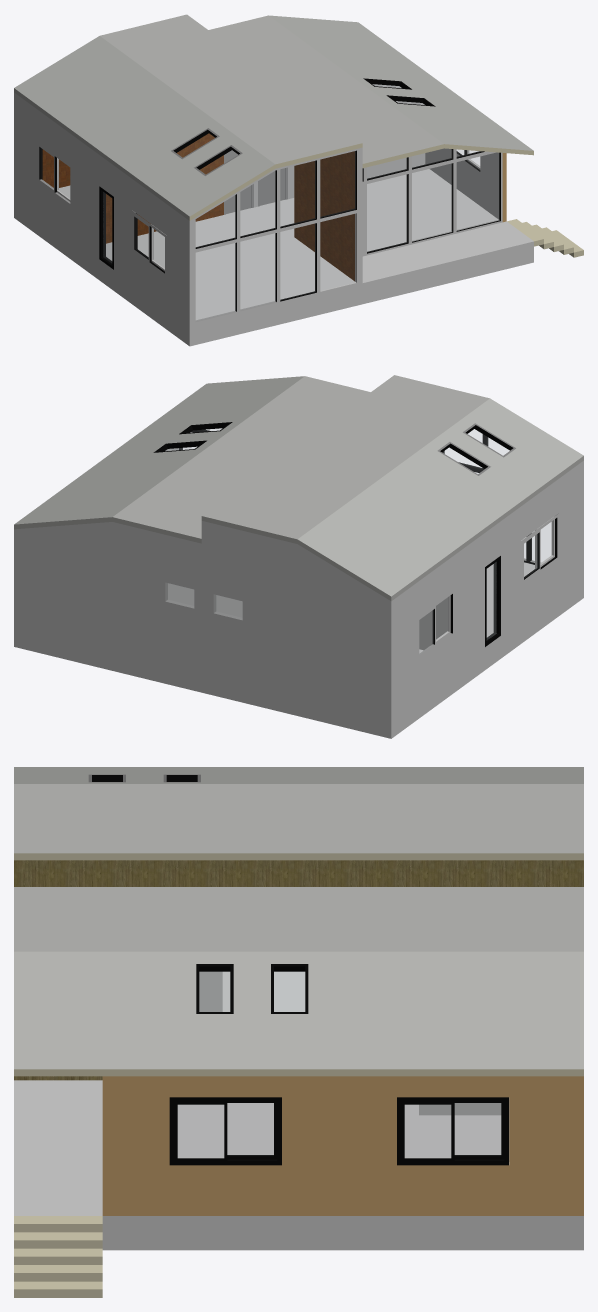
File: tish-d1b4a6c112a2.glb
3 views of the same model, one above another, from view 1: azimuth 30°, elevation 25°; view 2: azimuth 150°, elevation 25°; view 3: azimuth 270°, elevation 25° (orthographic). The views are drawn at different scales.
Visible parts, largest first — view 1: empty_50, empty_43, empty_38, empty_40, empty_54, empty_45, empty_3, empty_49, empty_2, empty_44; view 2: empty_50, empty_40, empty_38, empty_43, empty_3, empty_54; view 3: empty_50, empty_47, empty_38, empty_51, empty_43, empty_54, empty_49, empty_3, empty_44, empty_40.
Part boxes in pixels (x1,y1,x2,y2): empty_50: (14,14,533,220); empty_43: (41,84,499,320); empty_38: (14,147,533,346); empty_40: (14,84,498,324); empty_54: (17,169,498,325); empty_45: (42,133,354,281); empty_3: (39,78,500,311); empty_49: (189,143,533,220); empty_2: (224,150,287,214); empty_44: (507,219,583,257); empty_50: (14,375,583,601); empty_40: (14,448,583,715); empty_38: (14,513,583,738); empty_43: (166,428,551,653); empty_3: (153,422,557,646); empty_54: (15,562,583,715); empty_50: (14,767,583,1069); empty_47: (102,1076,583,1215); empty_38: (14,1080,583,1250); empty_51: (14,860,583,1080); empty_43: (178,972,500,1156); empty_54: (103,971,583,1216); empty_49: (14,853,583,1076); empty_3: (92,775,508,1165); empty_44: (14,1216,102,1297); empty_40: (199,971,509,1161).
Bounding box in the file's own units: 12.05 × 4.85 × 9.3.
17 materials, 3 textured.
